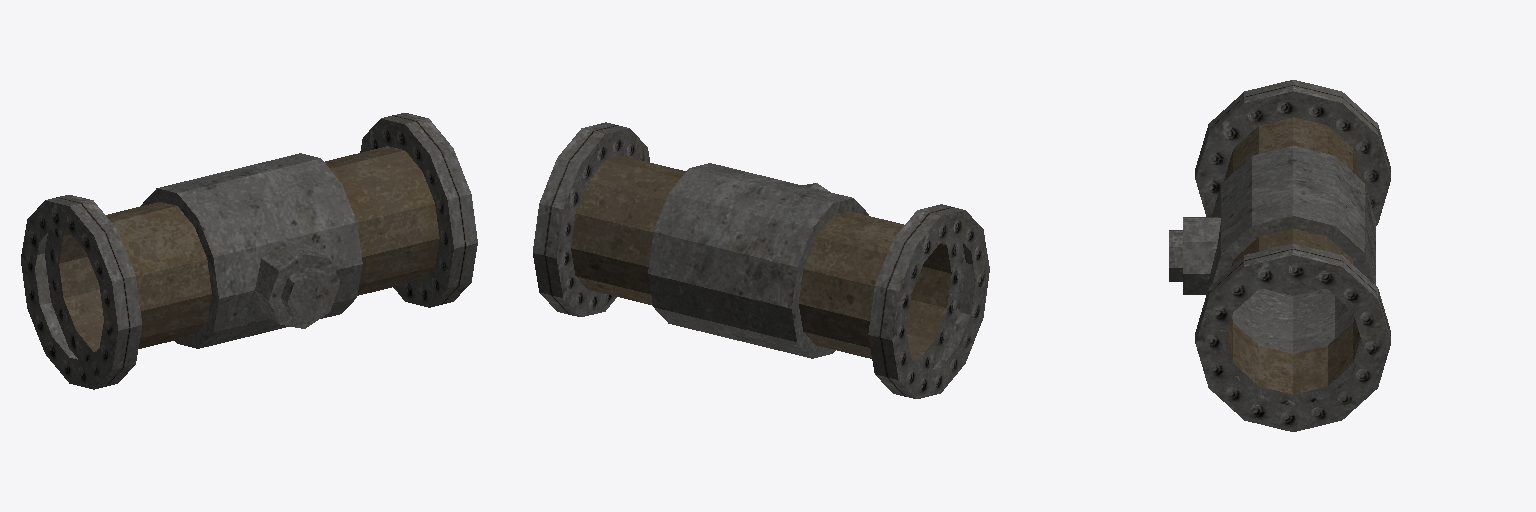
The picture shows the model from 3 angles: view 1: azimuth 30°, elevation 25°; view 2: azimuth 150°, elevation 25°; view 3: azimuth 270°, elevation 25°; orthographic projection.
Visible parts, largest first — view 1: valvepart_closed; view 2: valvepart_closed; view 3: valvepart_closed.
Part boxes in pixels (bbox=[...]): valvepart_closed: bbox=[21, 113, 477, 389]; valvepart_closed: bbox=[533, 122, 989, 398]; valvepart_closed: bbox=[1169, 80, 1390, 431].
Size of the model in its own units: 1.5 by 0.7071 by 0.8035.
1 materials, 1 textured.